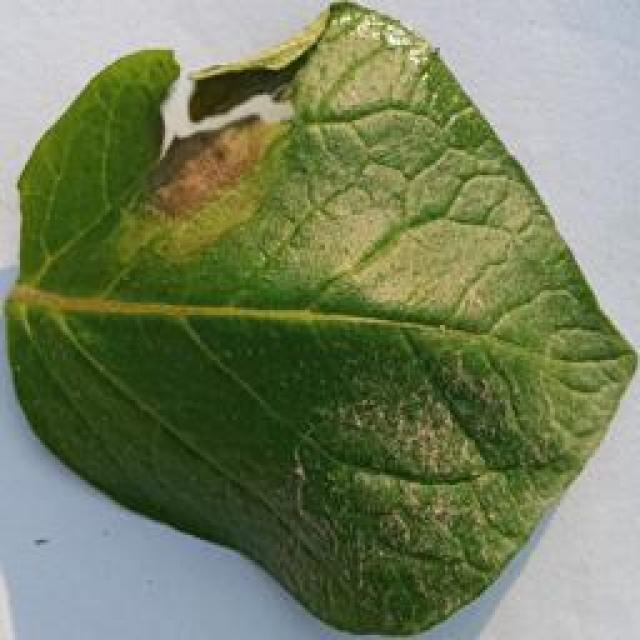Potato_Late_Blight: (4, 6, 623, 635)
